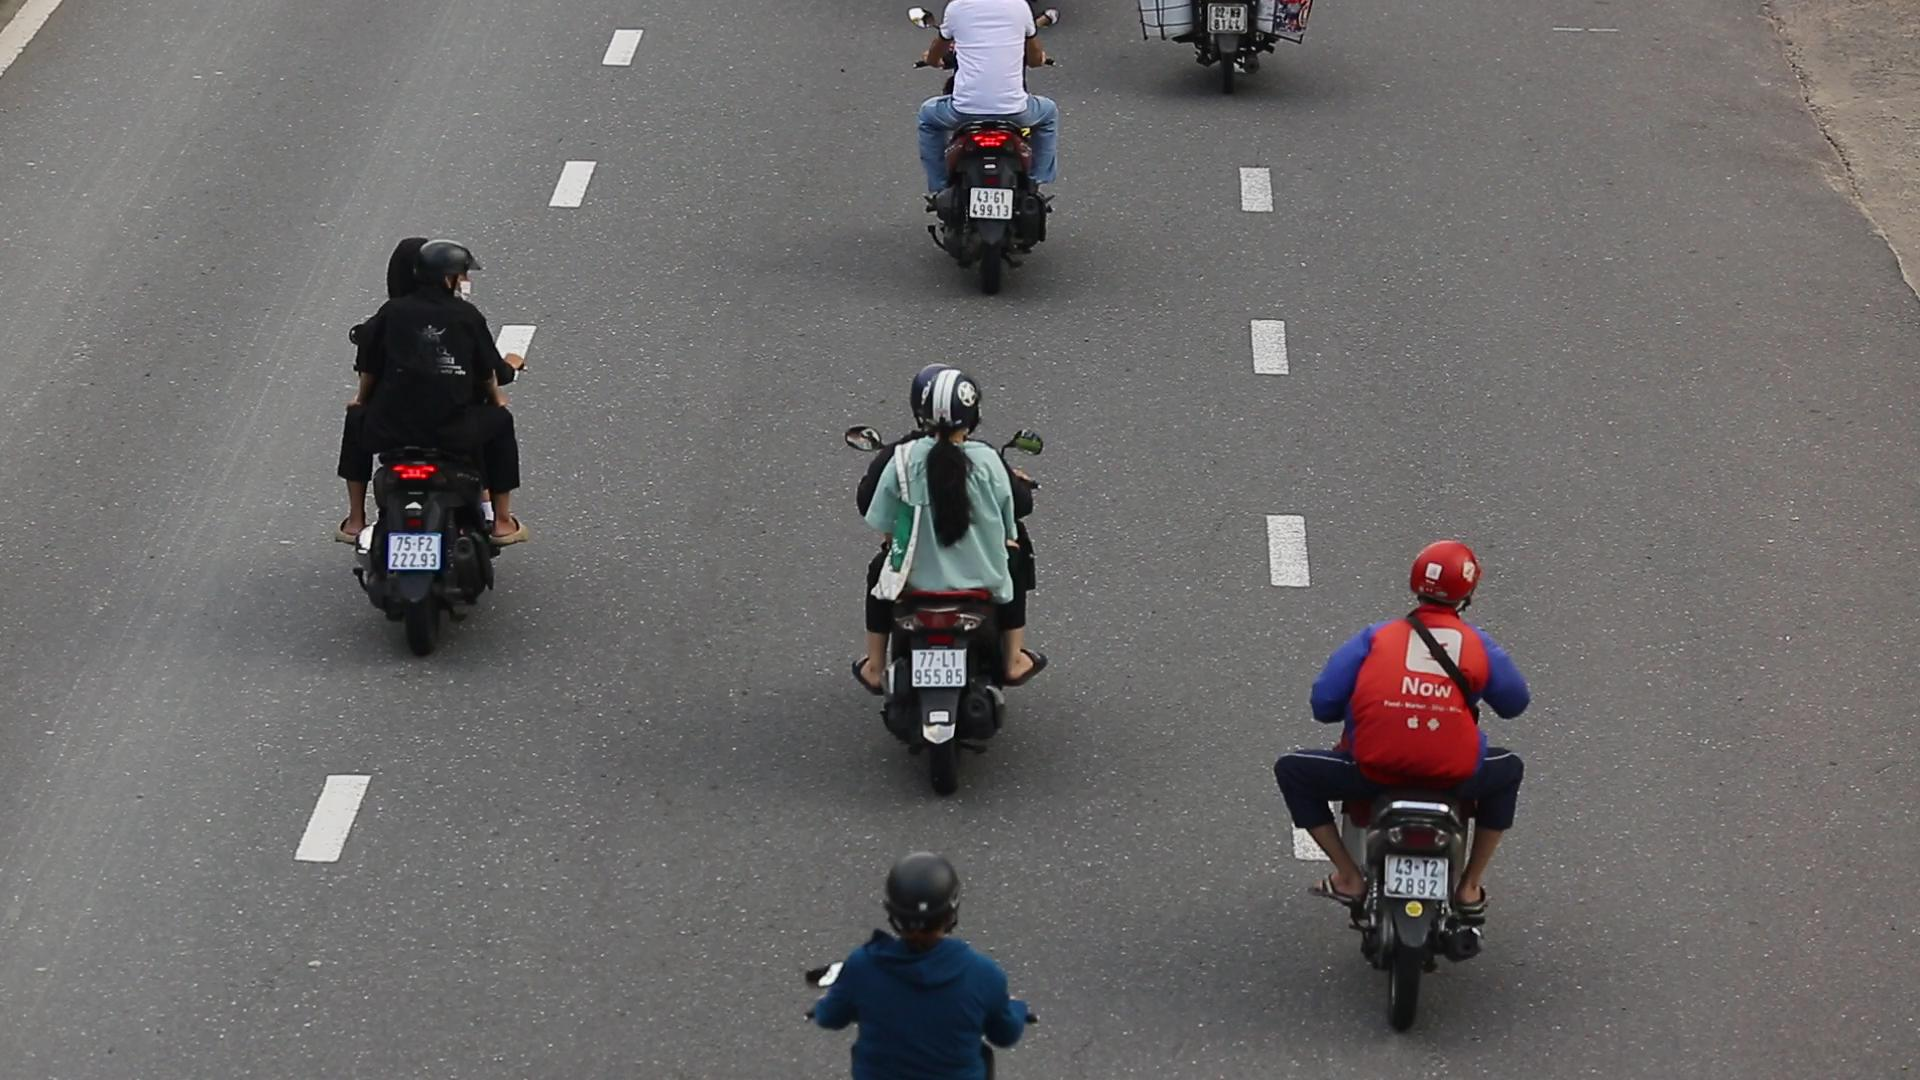motobike: (1257, 518, 1538, 1030), (841, 357, 1050, 799), (334, 233, 533, 663)
